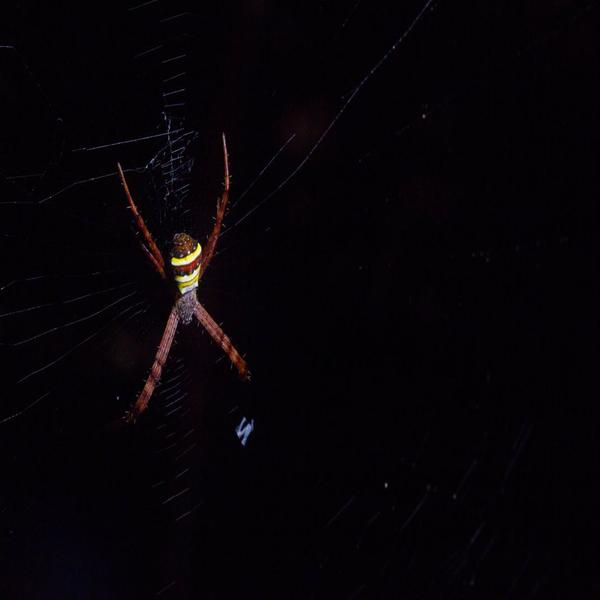St Andrew's Cross Spider: (122, 133, 246, 417)
